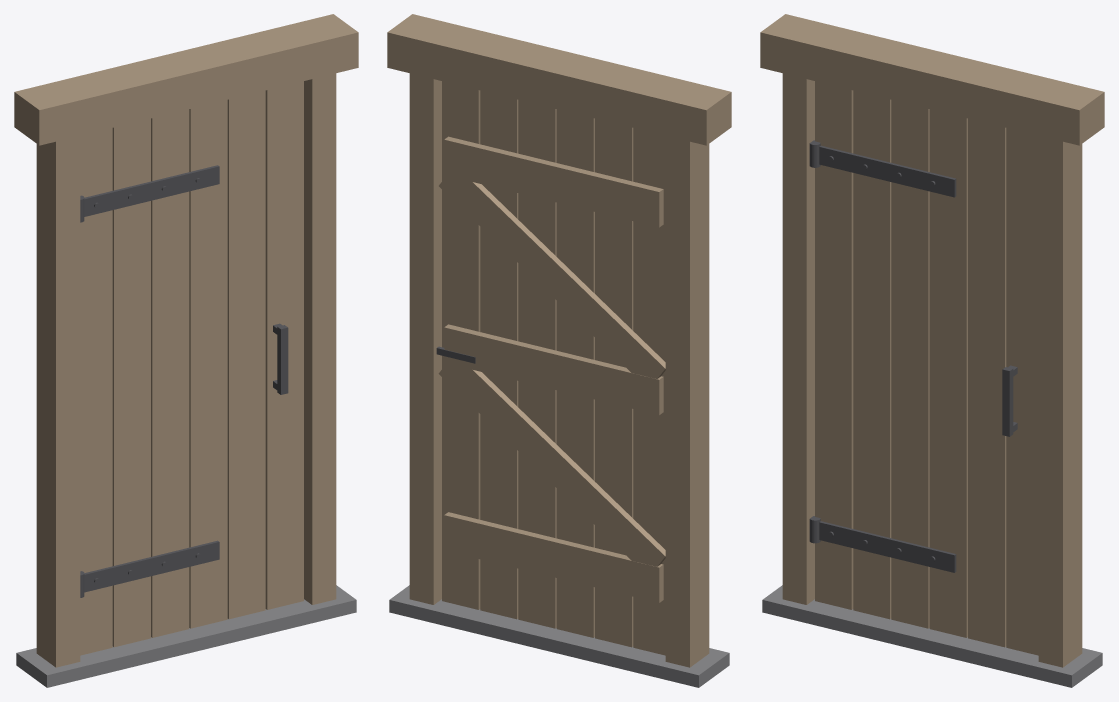
The model's file is Door_Rustic_Barn.fbx.
The picture shows the model from 3 angles, left to right: view 1: azimuth 30°, elevation 25°; view 2: azimuth 150°, elevation 25°; view 3: azimuth 330°, elevation 25°; orthographic projection.
Parts seen in each view (by area): view 1: Door_Rustic_Leaf, Door_Rustic_Frame, Door_Rustic_Handle; view 2: Door_Rustic_Leaf, Door_Rustic_Frame; view 3: Door_Rustic_Leaf, Door_Rustic_Frame, Door_Rustic_Handle.
Boxes of the visible parts, x1,y1,x2,y2 form: Door_Rustic_Leaf: [80, 81, 303, 655]; Door_Rustic_Frame: [14, 14, 358, 687]; Door_Rustic_Handle: [273, 323, 288, 394]; Door_Rustic_Leaf: [438, 81, 665, 655]; Door_Rustic_Frame: [387, 14, 731, 687]; Door_Rustic_Leaf: [809, 81, 1038, 655]; Door_Rustic_Frame: [760, 14, 1104, 687]; Door_Rustic_Handle: [1002, 365, 1017, 436].
Bounding box in the file's own units: 132 × 228 × 22.
